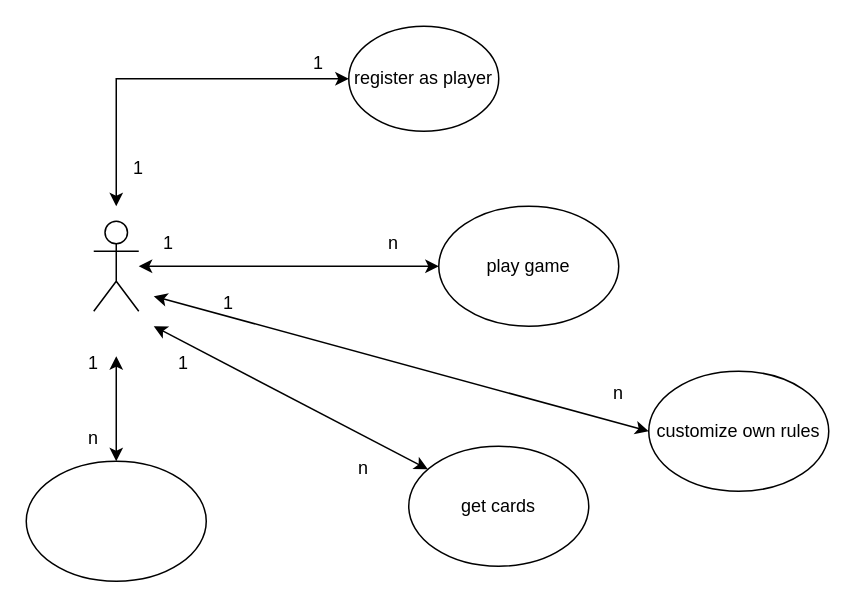
The diagram is 855 pixels wide and 608 high, and some of its shapes have lost their labels. Each missing label, with the box of its shape:
create deck: (25, 460, 206, 581)
player: (92, 220, 139, 311)
